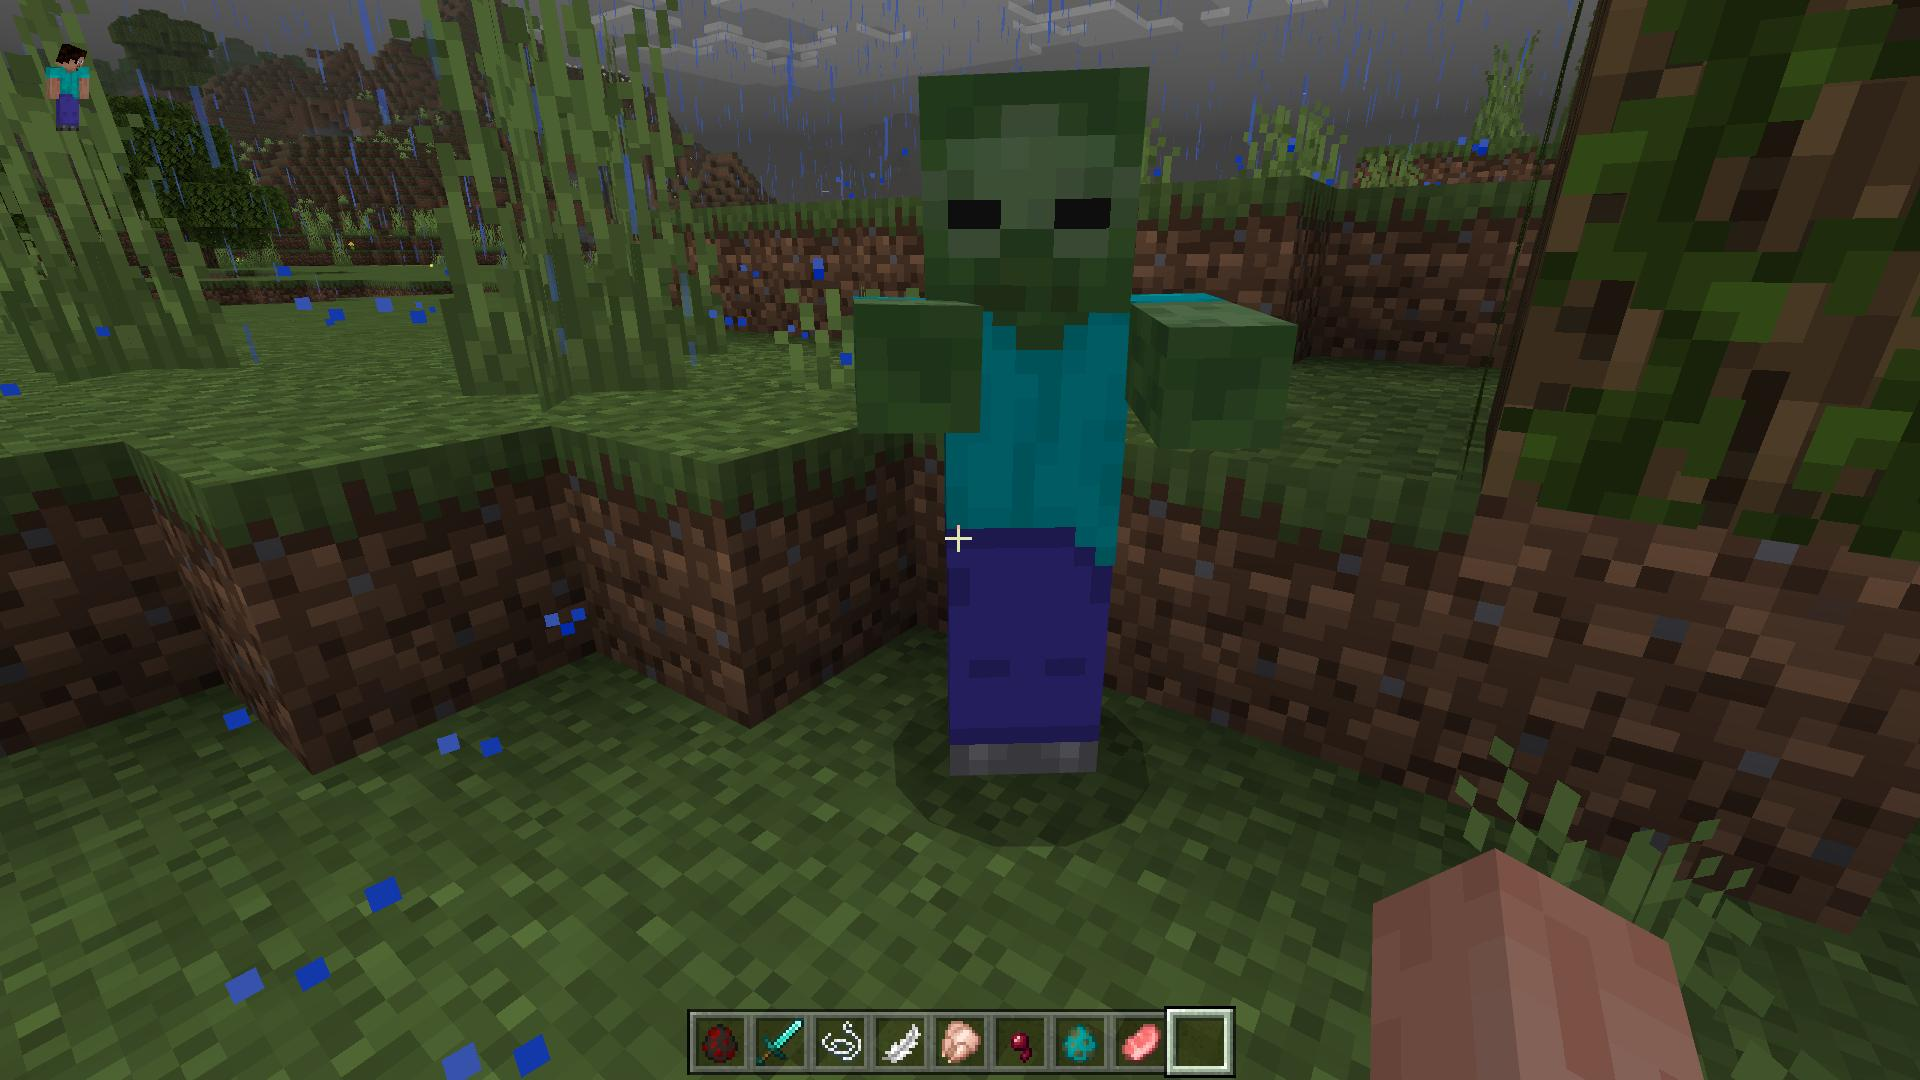zombie: (852, 58, 1299, 781)
